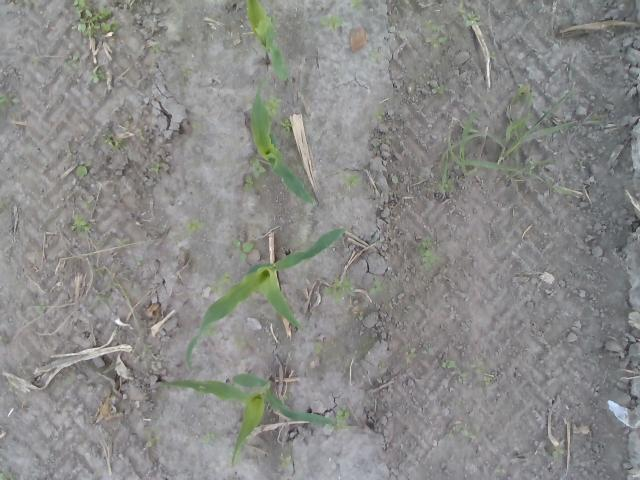Maize: (186, 224, 346, 368), (158, 370, 338, 466), (250, 83, 320, 209), (245, 0, 292, 82)
Weeds: (72, 0, 120, 36), (416, 238, 440, 272), (324, 278, 352, 304), (442, 358, 468, 384), (230, 238, 255, 265), (448, 420, 480, 440), (207, 273, 230, 294), (334, 407, 352, 433), (514, 84, 536, 104), (102, 132, 126, 150), (319, 15, 343, 32), (341, 174, 364, 190), (143, 430, 161, 450), (264, 94, 280, 116), (423, 19, 448, 33), (252, 158, 270, 177), (476, 366, 492, 386), (72, 214, 88, 233), (424, 36, 448, 48), (436, 180, 456, 194), (186, 218, 208, 230), (510, 118, 530, 131), (63, 56, 81, 70), (368, 280, 386, 294), (463, 14, 481, 27), (243, 175, 256, 193), (278, 454, 293, 469), (0, 94, 14, 110), (280, 118, 292, 135), (88, 70, 105, 82), (431, 83, 449, 94), (74, 164, 88, 178), (95, 290, 113, 300), (404, 351, 416, 365), (31, 303, 49, 312), (551, 446, 566, 456), (374, 358, 386, 370), (0, 471, 16, 480), (235, 337, 248, 348), (351, 0, 366, 9), (149, 162, 161, 173), (458, 0, 466, 16), (352, 311, 364, 321), (390, 174, 402, 184), (82, 200, 93, 210), (143, 343, 153, 354), (206, 328, 218, 337), (204, 430, 216, 439), (150, 44, 160, 54), (181, 67, 192, 76), (126, 114, 133, 128), (374, 112, 386, 120), (0, 198, 9, 208), (528, 160, 536, 170), (314, 341, 320, 353), (280, 393, 288, 401), (489, 52, 496, 60), (120, 240, 128, 244)
